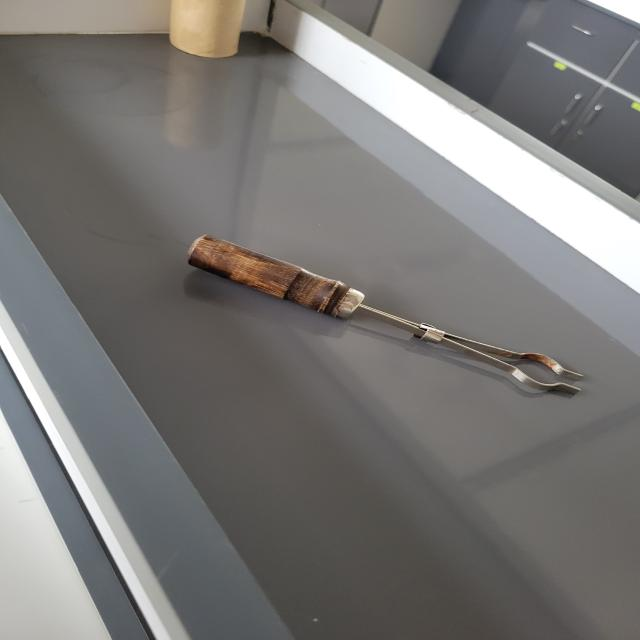TestTube_Holder: (150, 200, 606, 423)
